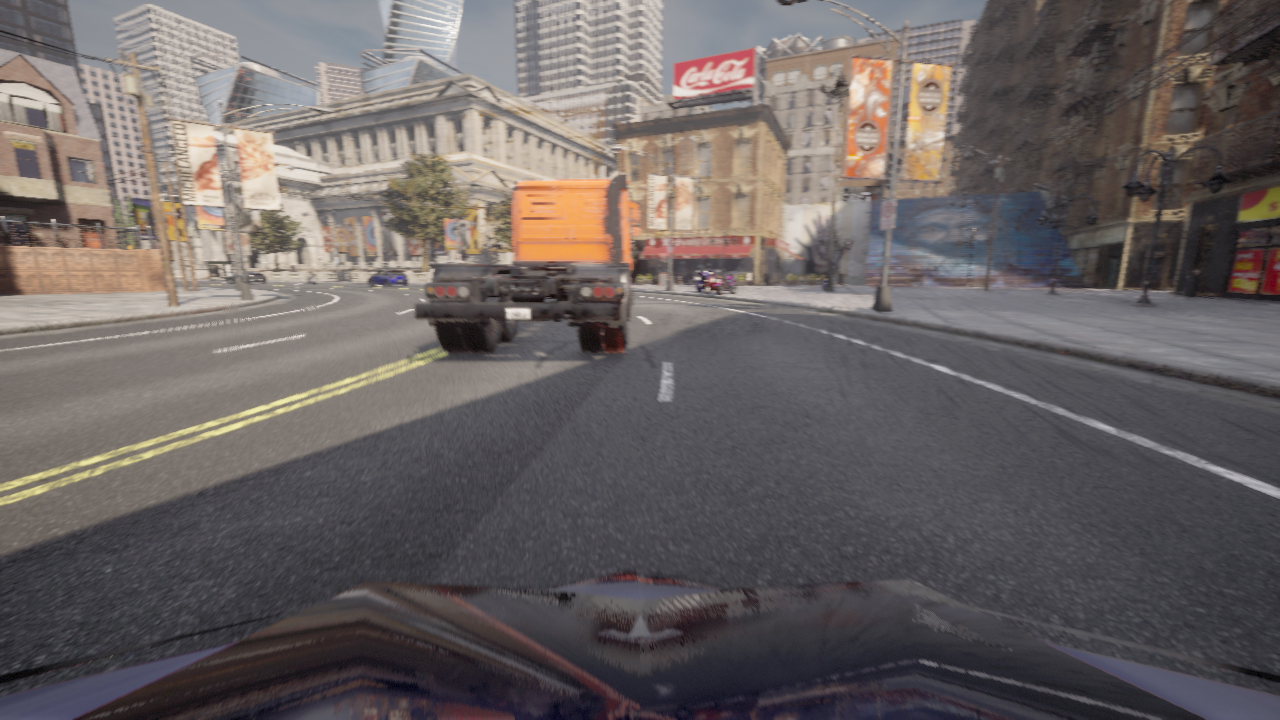cyclist: (0, 569, 1279, 719), (414, 174, 639, 353), (367, 270, 407, 287), (715, 269, 737, 294), (227, 271, 266, 284), (694, 270, 717, 292), (704, 270, 718, 293), (822, 275, 826, 288), (311, 278, 315, 282)
